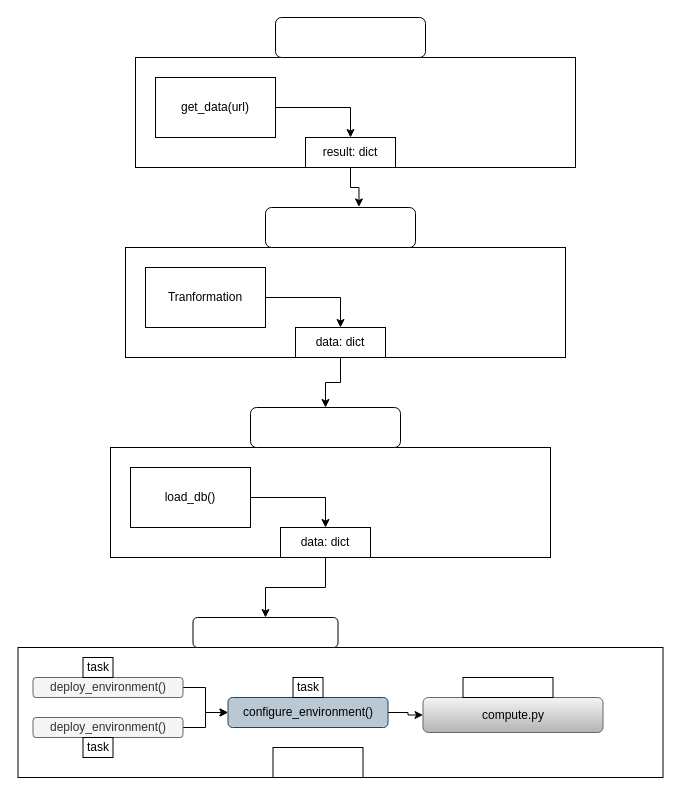
This 680x795 diagram has some shape labels left out. Here are the shapes that lost their labels. From the top down, the centre of each, then its label:
At pixel 350 37: "extract(url: str)".
At pixel 340 227: "transform(data: dict)".
At pixel 325 427: "load(data: dict)".
At pixel 265 632: "compute(data: dict)".
At pixel 507 687: "subprocess".
At pixel 317 762: "result".
